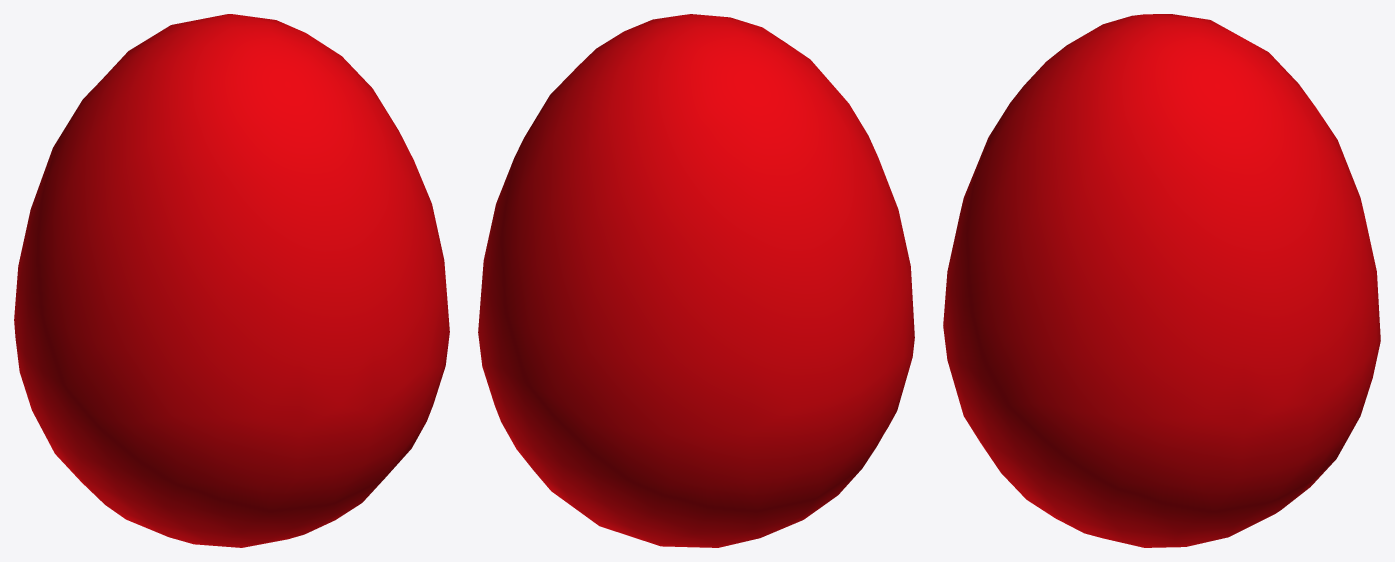
File: egg.gltf
3 views of the same model, side by side, from view 1: azimuth 30°, elevation 25°; view 2: azimuth 150°, elevation 25°; view 3: azimuth 270°, elevation 25° (orthographic).
Parts seen in each view (by area): view 1: Egg; view 2: Egg; view 3: Egg.
Part boxes in pixels (x1,y1,x2,y2): Egg: (14,14,449,547); Egg: (478,14,914,547); Egg: (943,14,1380,547).
Bounding box in the file's own units: 1.07 × 1.35 × 1.06.
